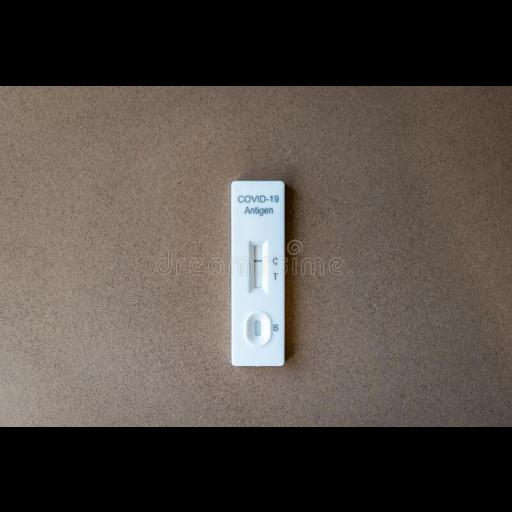Neg: (232, 178, 284, 364)
